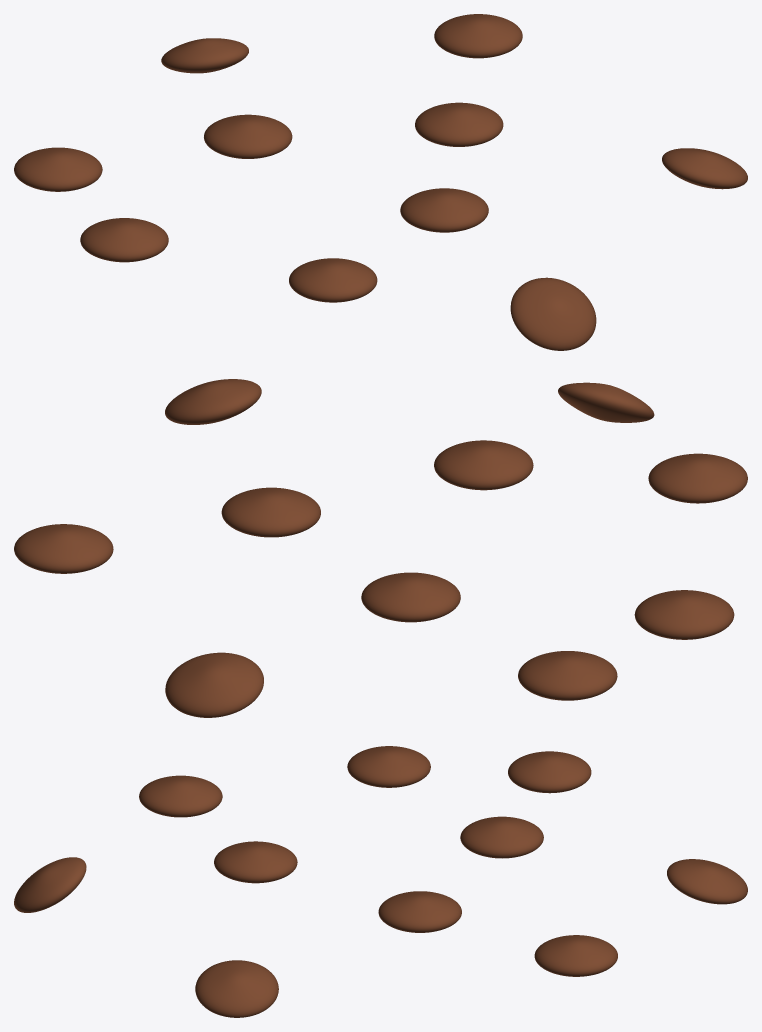
3 views of the same model, one above another, from view 1: azimuth 30°, elevation 25°; view 2: azimuth 150°, elevation 25°; view 3: azimuth 270°, elevation 25° (orthographic). The views are drawn at different scales.
Parts seen in each view (by area): view 1: chocolate; view 2: chocolate; view 3: chocolate.
Part boxes in pixels (x1=…): chocolate: x1=14, y1=14, x2=747, y2=350; chocolate: x1=14, y1=379, x2=747, y2=717; chocolate: x1=14, y1=746, x2=747, y2=1017.
Size of the model in its own units: 0.9851 by 0.1012 by 1.15.
